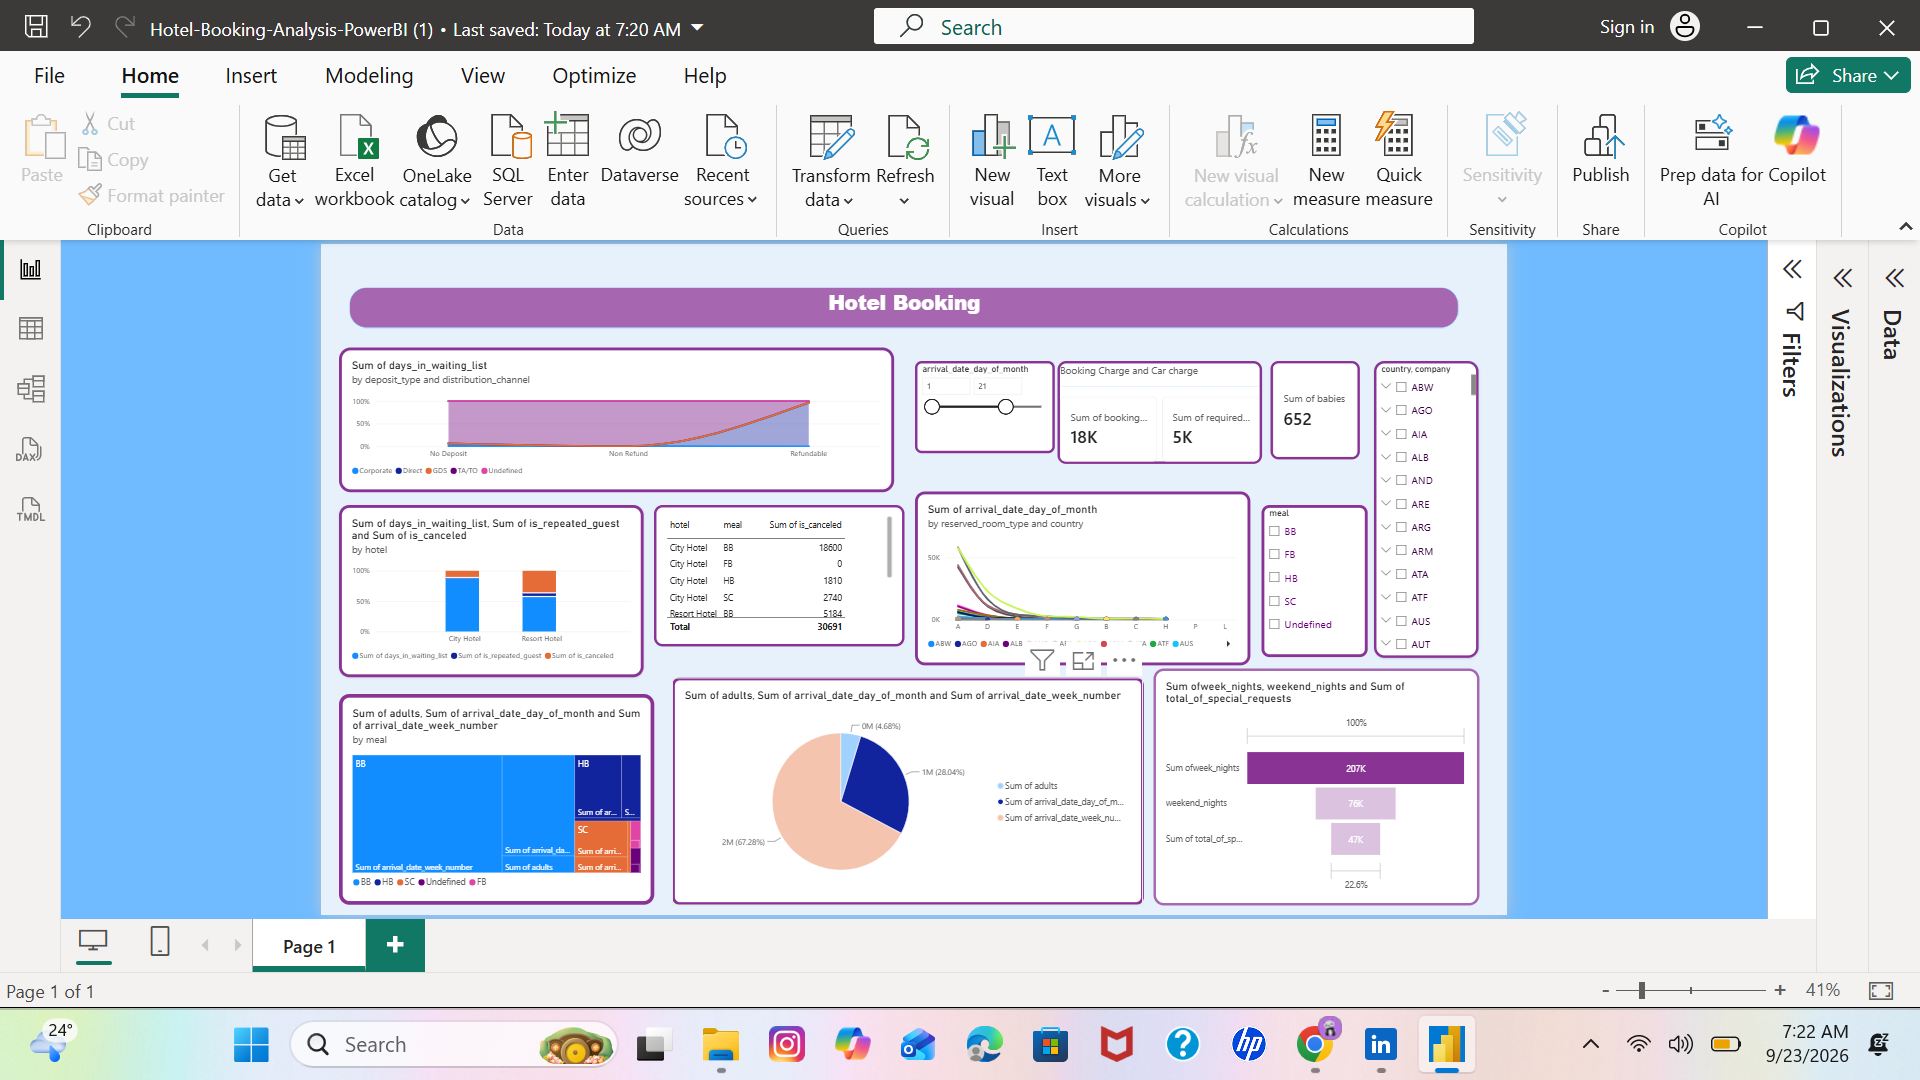

Layout of this report page (visuals, bound fields, positions):
{"tool":"powerbi","page":{"name":"Page 1","canvas":[1928,1090],"ordinal":0},"visuals":[{"type":"hundredPercentStackedColumnChart","fields":{"Category":["hotel_bookings.hotel"],"Y":["Sum(hotel_bookings.days_in_waiting_list)","Sum(hotel_bookings.is_repeated_guest)","Sum(hotel_bookings.is_canceled)"]},"box":[30,425,495,280],"z":1000},{"type":"cardVisual","fields":{"Data":["Sum(hotel_bookings.booking_changes)","Sum(hotel_bookings.required_car_parking_spaces)"]},"box":[1197.5,190,332.5,167.5],"z":2000},{"type":"treemap","fields":{"Group":["hotel_bookings.meal"],"Values":["Sum(hotel_bookings.adults)","Sum(hotel_bookings.arrival_date_day_of_month)","Sum(hotel_bookings.arrival_date_week_number)"]},"box":[30,732.5,512.5,342.5],"z":3000},{"type":"funnel","fields":{"Y":["Sum(hotel_bookings.stays_in_week_nights)","Sum(hotel_bookings.stays_in_weekend_nights)","Sum(hotel_bookings.total_of_special_requests)"]},"box":[1352.5,690,530,385],"z":4000},{"type":"lineChart","fields":{"Category":["hotel_bookings.reserved_room_type"],"Series":["hotel_bookings.country"],"Y":["Sum(hotel_bookings.arrival_date_day_of_month)"]},"box":[965,402.5,545,282.5],"z":5000},{"type":"slicer","fields":{"Values":["hotel_bookings.arrival_date_day_of_month"]},"box":[965,190,227.5,150],"z":6000},{"type":"slicer","fields":{"Values":["hotel_bookings.meal"]},"box":[1530,425,172.5,247.5],"z":7000},{"type":"slicer","fields":{"Values":["hotel_bookings.country","hotel_bookings.company"]},"box":[1712.5,190,170,482.5],"z":8000},{"type":"hundredPercentStackedAreaChart","fields":{"Y":["Sum(hotel_bookings.days_in_waiting_list)"],"Category":["hotel_bookings.deposit_type"],"Series":["hotel_bookings.distribution_channel"]},"box":[30,167.5,902.5,235],"z":9000},{"type":"textbox","title":"Hotel Booking","box":[47.5,70,1802.5,65],"z":10000},{"type":"pieChart","fields":{"Y":["Sum(hotel_bookings.adults)","Sum(hotel_bookings.arrival_date_day_of_month)","Sum(hotel_bookings.arrival_date_week_number)"]},"box":[570,705,767.5,370],"z":11000},{"type":"cardVisual","fields":{"Data":["Sum(hotel_bookings.babies)"]},"box":[1545,190,145,160],"z":12000},{"type":"tableEx","fields":{"Values":["hotel_bookings.hotel","hotel_bookings.meal","Sum(hotel_bookings.is_canceled)"]},"box":[542.5,425,407.5,230],"z":12001}]}

Visuals, with their boxes on the page's 1928x1090 design canvas (x1, y1, x2, y2). These are canvas units, not pixel positions in the 1920x1080 screenshot, which may show the page scaled, cropped or inside an application window:
hundredPercentStackedColumnChart - hotel_bookings.hotel x Sum(hotel_bookings.days_in_waiting_list): x1=30, y1=425, x2=525, y2=705
cardVisual - Sum(hotel_bookings.booking_changes) x Sum(hotel_bookings.required_car_parking_spaces): x1=1198, y1=190, x2=1530, y2=358
treemap - hotel_bookings.meal x Sum(hotel_bookings.adults): x1=30, y1=732, x2=542, y2=1075
funnel - Sum(hotel_bookings.stays_in_week_nights) x Sum(hotel_bookings.stays_in_weekend_nights): x1=1352, y1=690, x2=1882, y2=1075
lineChart - hotel_bookings.reserved_room_type x hotel_bookings.country: x1=965, y1=402, x2=1510, y2=685
slicer - hotel_bookings.arrival_date_day_of_month: x1=965, y1=190, x2=1192, y2=340
slicer - hotel_bookings.meal: x1=1530, y1=425, x2=1702, y2=672
slicer - hotel_bookings.country x hotel_bookings.company: x1=1712, y1=190, x2=1882, y2=672
hundredPercentStackedAreaChart - Sum(hotel_bookings.days_in_waiting_list) x hotel_bookings.deposit_type: x1=30, y1=168, x2=932, y2=402
"Hotel Booking" textbox: x1=48, y1=70, x2=1850, y2=135
pieChart - Sum(hotel_bookings.adults) x Sum(hotel_bookings.arrival_date_day_of_month): x1=570, y1=705, x2=1338, y2=1075
cardVisual - Sum(hotel_bookings.babies): x1=1545, y1=190, x2=1690, y2=350
tableEx - hotel_bookings.hotel x hotel_bookings.meal: x1=542, y1=425, x2=950, y2=655
